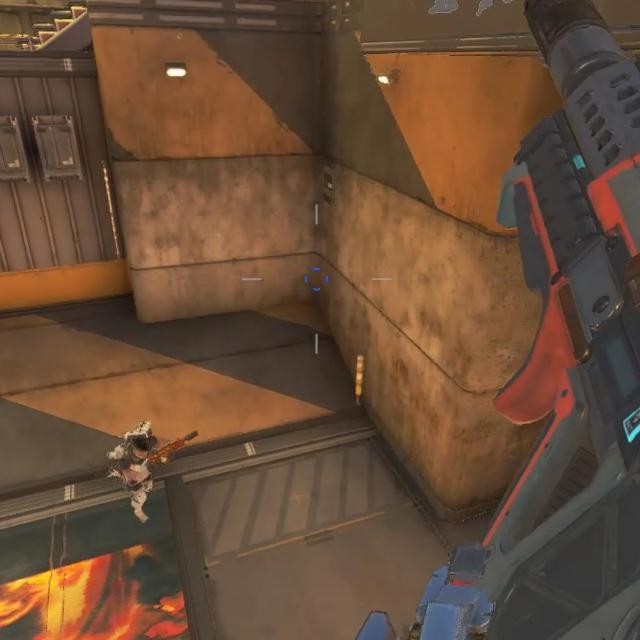avatar: (110, 421, 156, 525)
